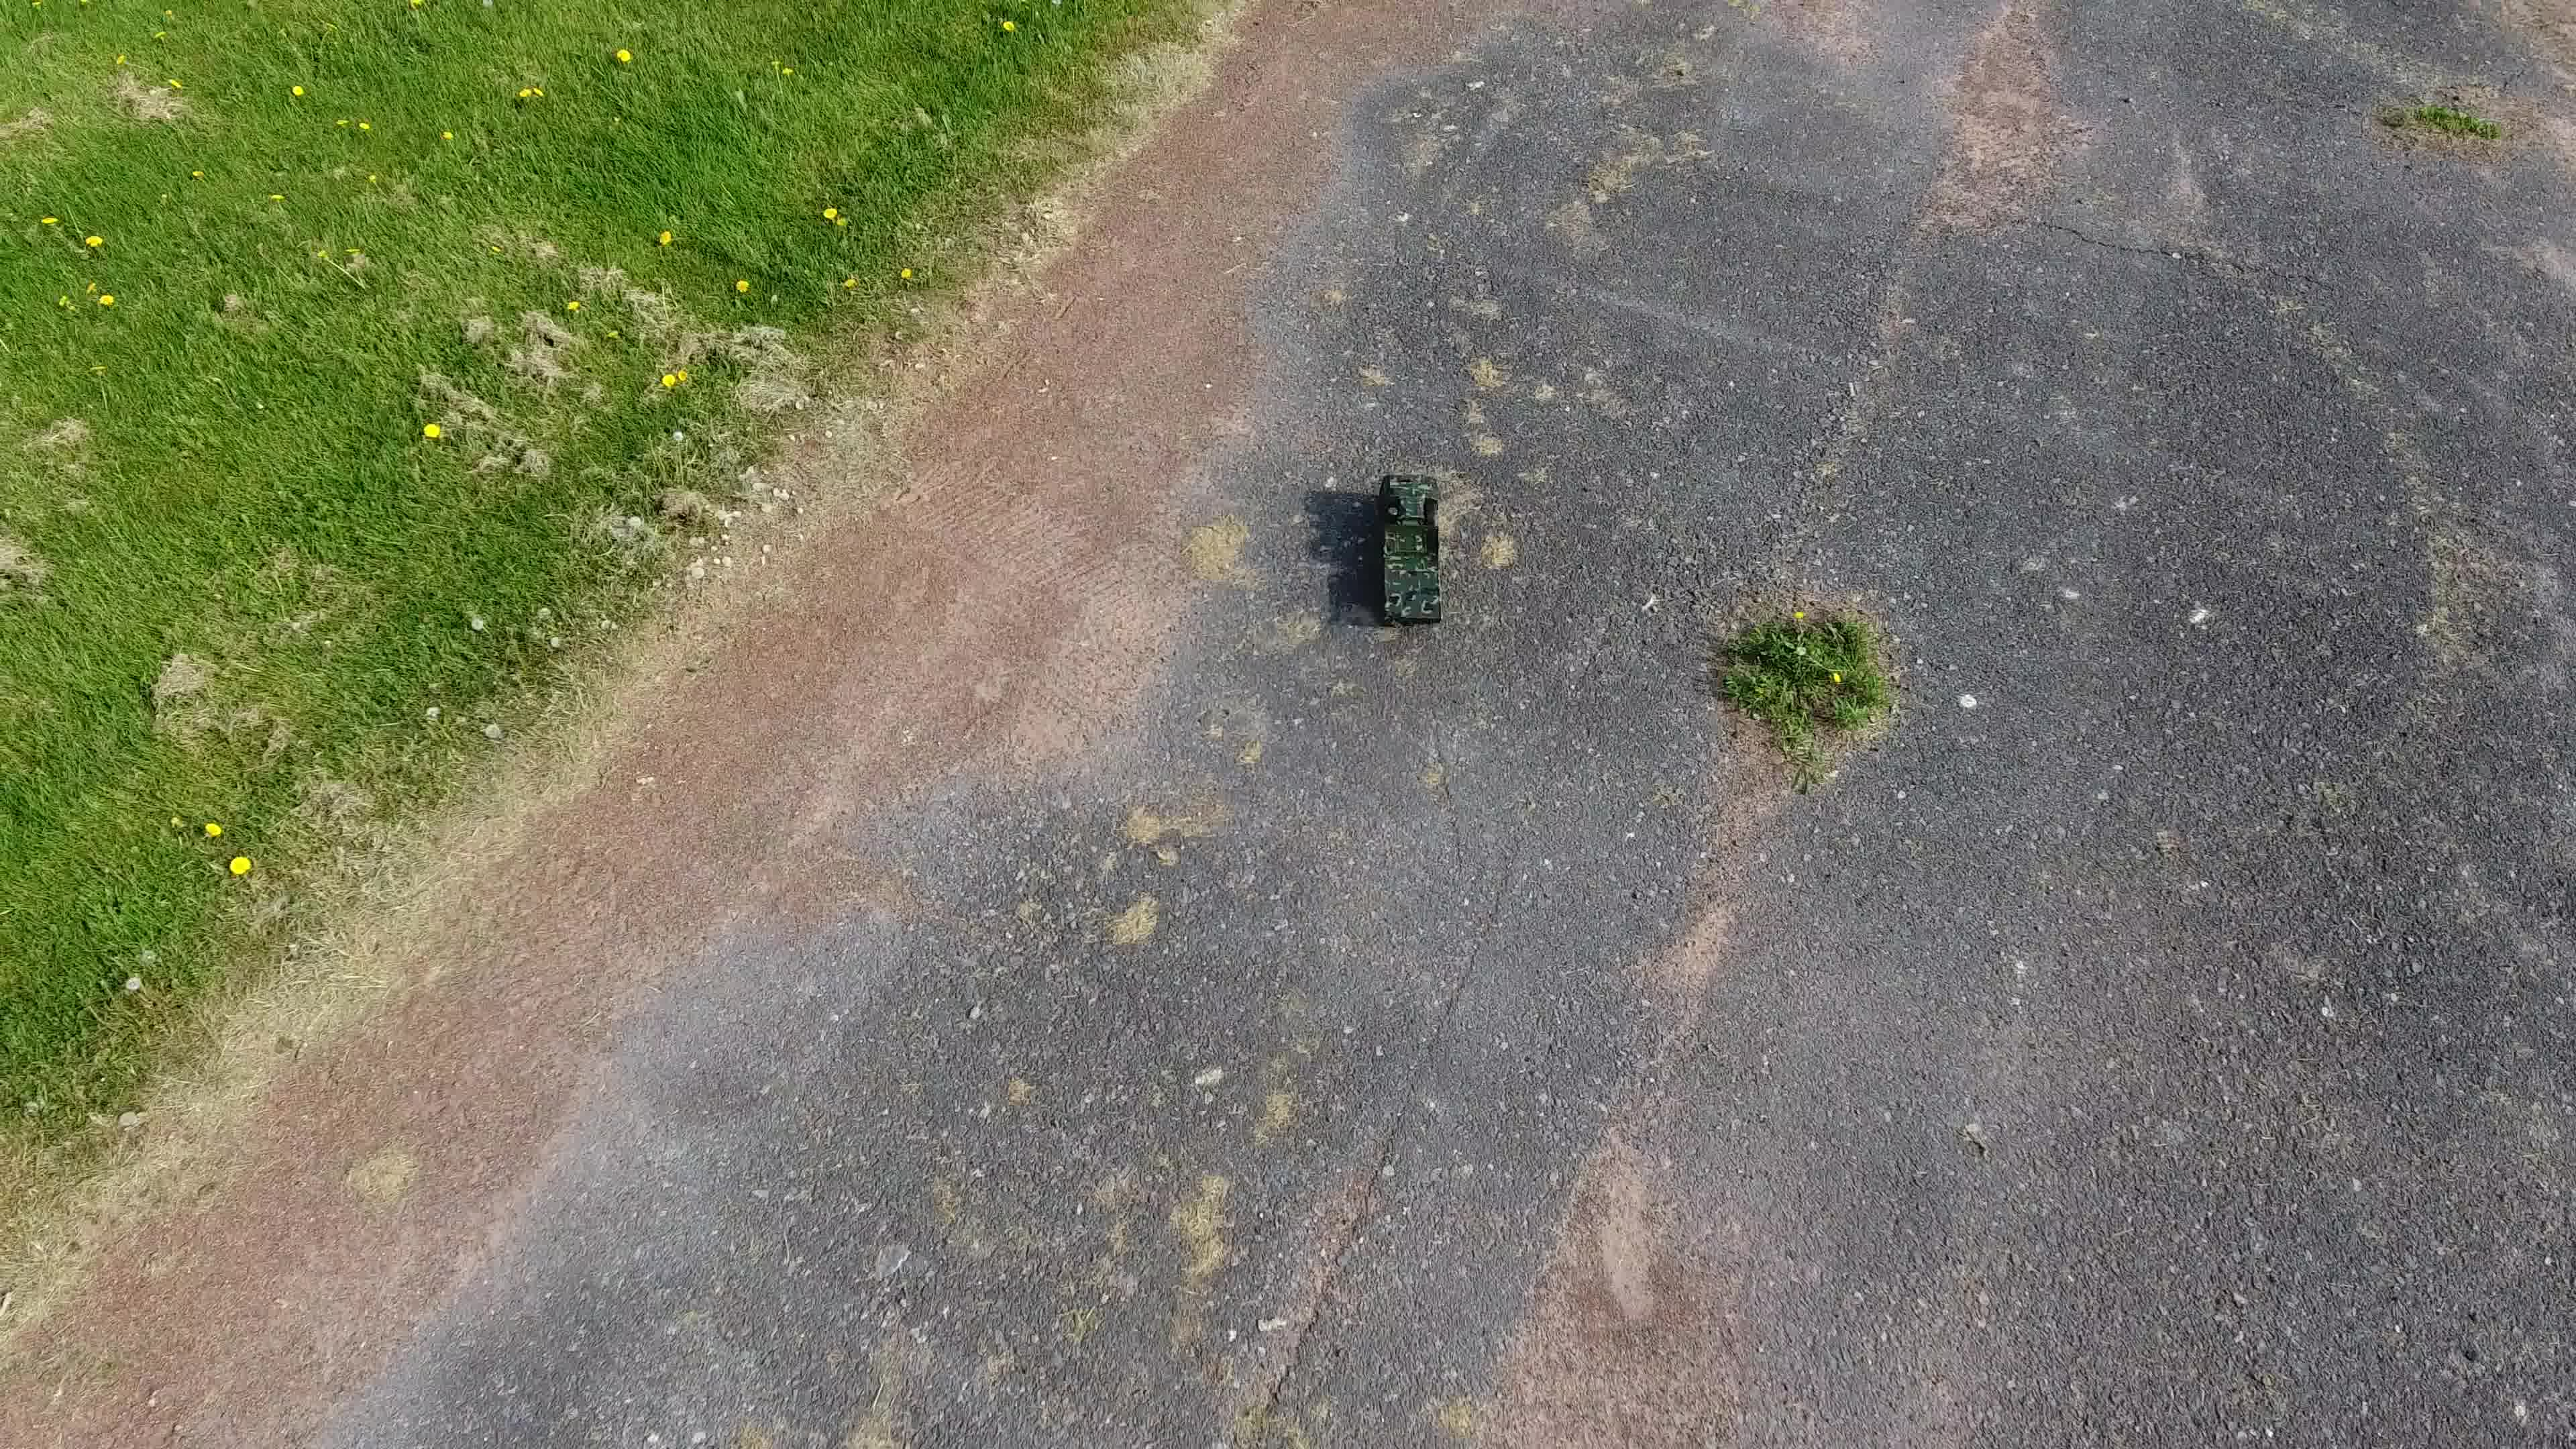transporter9_camo: (1375, 471, 1447, 630)
